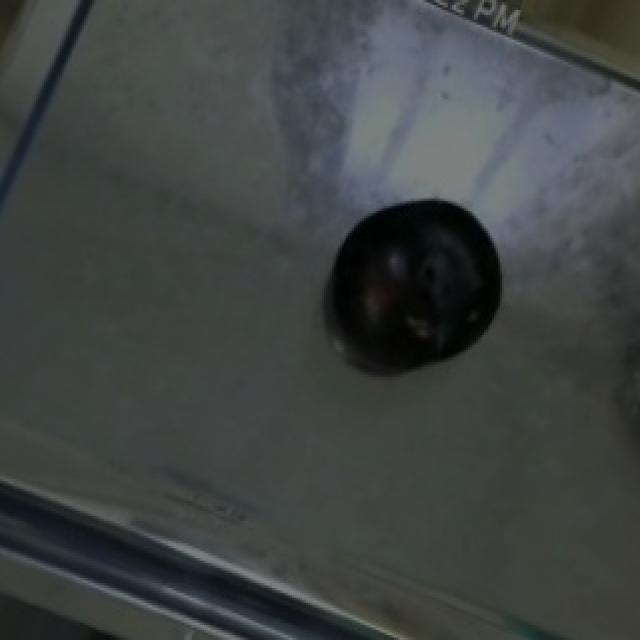Fruit: (306, 179, 524, 397)
